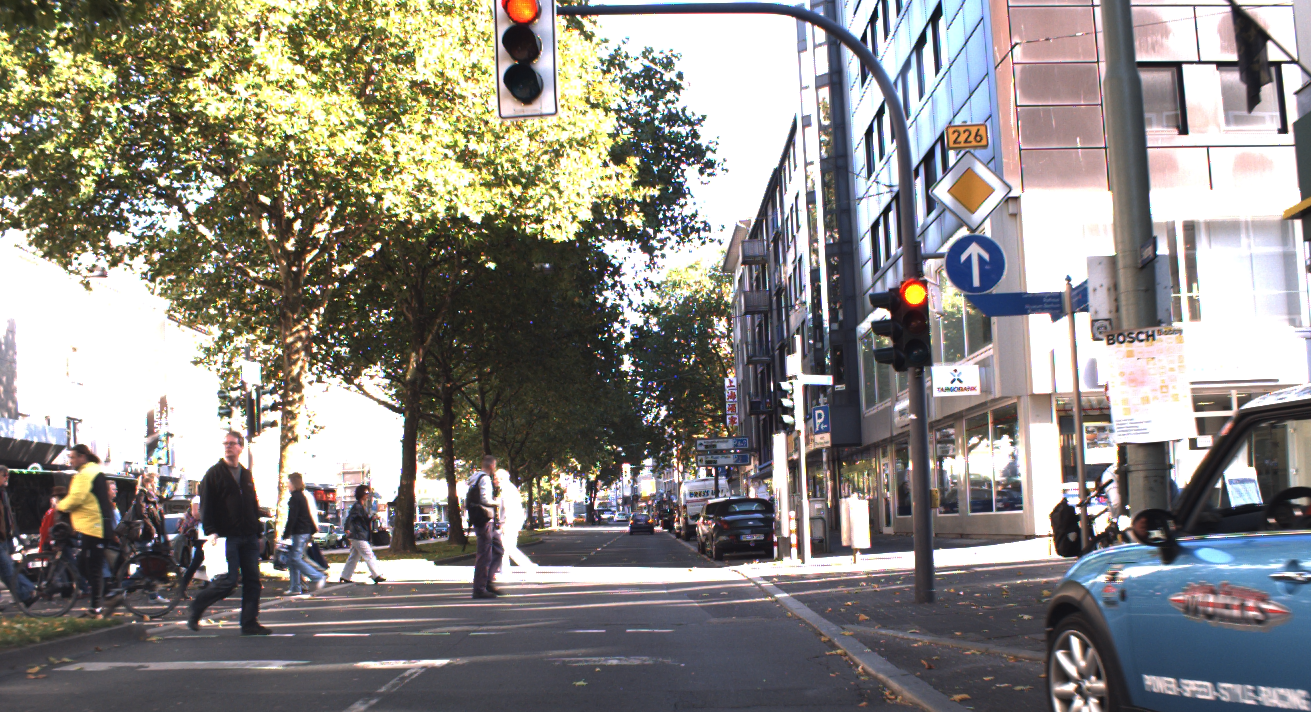yellow: (927, 150, 1014, 232)
